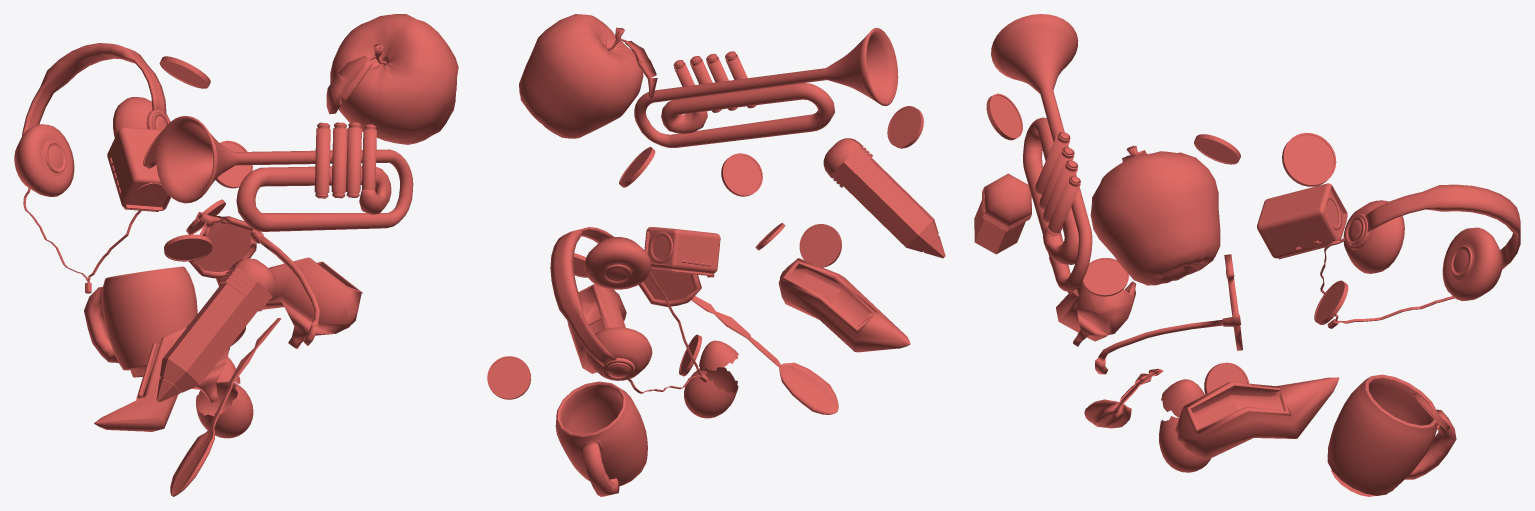
File: fuckblender.glb
3 renders of one model, left to right at view 1: azimuth 30°, elevation 25°; view 2: azimuth 150°, elevation 25°; view 3: azimuth 270°, elevation 25°, orthographic. The views are drawn at different scales.
Visible parts, largest first — view 1: Plane, Circle.002, mug, Cylinder, Cube.002, Circle.009, Cube.003, Cube.001, Cube.005, Circle, Circle.001, Sphere.002 (+9 smaller); view 2: Circle.002, Plane, mug, Cube.001, Cylinder, Circle, Sphere.002, Cube.004, Cube.005, Circle.005, Cube.002, Circle.001 (+11 smaller); view 3: Plane, mug, Circle.002, Cube.002, Cube.005, Circle, Cube.001, Circle.001, Circle.009, Sphere.002, COIN, Circle.005 (+10 smaller).
Boxes of the visible parts, box(x1,y1,x2,y2) form: Plane: box(326, 14, 458, 144); Circle.002: box(156, 116, 413, 231); mug: box(84, 266, 197, 377); Cylinder: box(160, 283, 258, 392); Cube.002: box(216, 257, 362, 348); Circle.009: box(314, 122, 376, 198); Cube.003: box(189, 212, 319, 345); Cube.001: box(94, 327, 229, 431); Cube.005: box(107, 127, 171, 211); Circle: box(22, 43, 166, 135); Circle.001: box(14, 124, 74, 196); Sphere.002: box(196, 357, 253, 438); Circle.002: box(634, 28, 898, 147); Plane: box(519, 14, 657, 138); mug: box(555, 381, 647, 496); Cube.001: box(778, 258, 910, 352); Cylinder: box(843, 158, 938, 251); Circle: box(550, 227, 616, 366); Sphere.002: box(684, 340, 738, 418); Cube.004: box(691, 296, 838, 414); Cube.005: box(644, 227, 720, 275); Circle.005: box(584, 237, 651, 289); Cube.002: box(567, 284, 626, 373); Circle.001: box(585, 327, 652, 380); Plane: box(1090, 145, 1220, 285); mug: box(1327, 374, 1456, 496); Circle.002: box(991, 14, 1092, 291); Cube.002: box(1175, 377, 1339, 460); Cube.005: box(1257, 183, 1347, 259); Circle: box(1364, 184, 1520, 269); Cube.001: box(1056, 281, 1136, 346); Circle.001: box(1442, 227, 1502, 301); Circle.009: box(1035, 132, 1080, 232); Sphere.002: box(1159, 379, 1210, 472); COIN: box(1282, 133, 1336, 186); Circle.005: box(1343, 200, 1404, 273).
Size of the model in its own units: 18.65 by 18.69 by 22.23.
